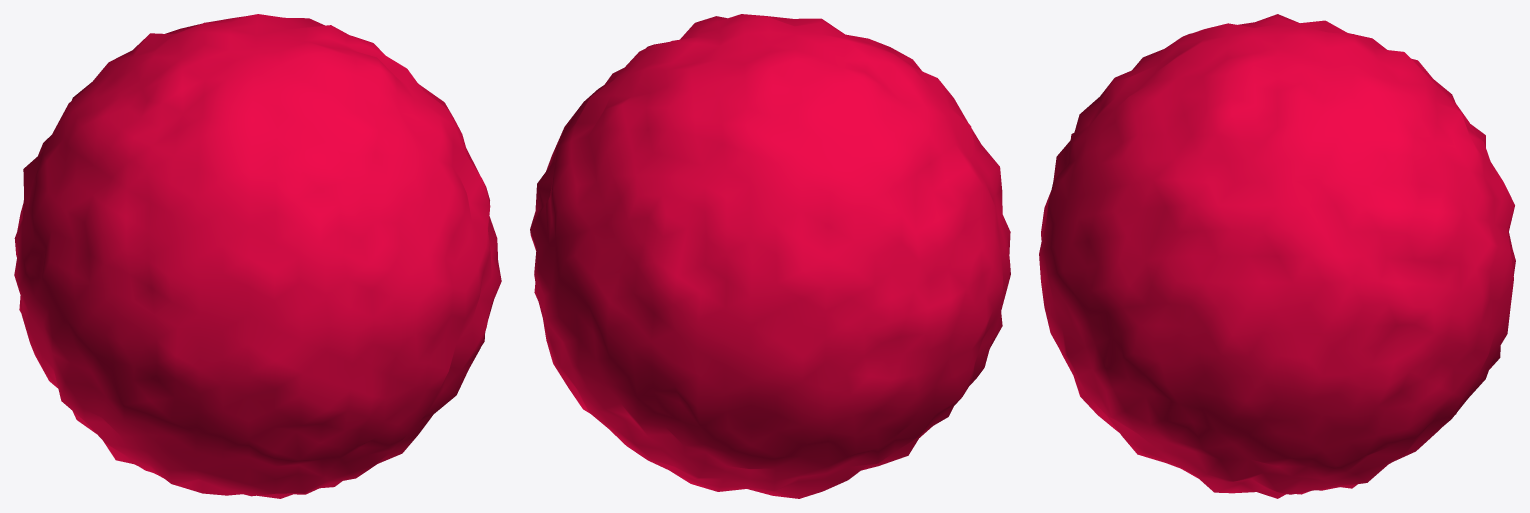
The model's file is mars-moon-1-01.fbx.
3 renders of one model, left to right at view 1: azimuth 30°, elevation 25°; view 2: azimuth 150°, elevation 25°; view 3: azimuth 270°, elevation 25°, orthographic.
Parts seen in each view (by area): view 1: mars_moon_1; view 2: mars_moon_1; view 3: mars_moon_1.
Part boxes in pixels (left/top/right/bottom): mars_moon_1: left=14, top=14, right=501, bottom=498; mars_moon_1: left=530, top=14, right=1010, bottom=498; mars_moon_1: left=1039, top=14, right=1515, bottom=498.
Size of the model in its own units: 204 by 201 by 202.
